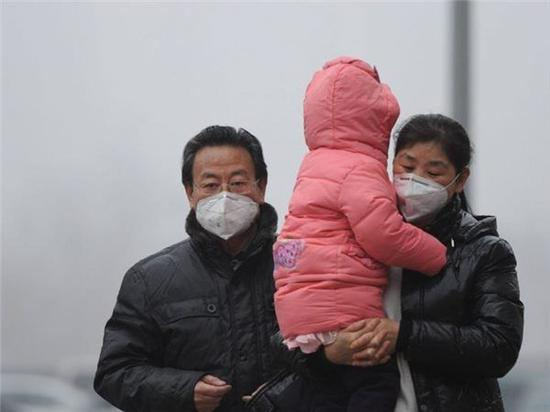OK: (193, 167, 265, 239), (391, 150, 461, 220)
